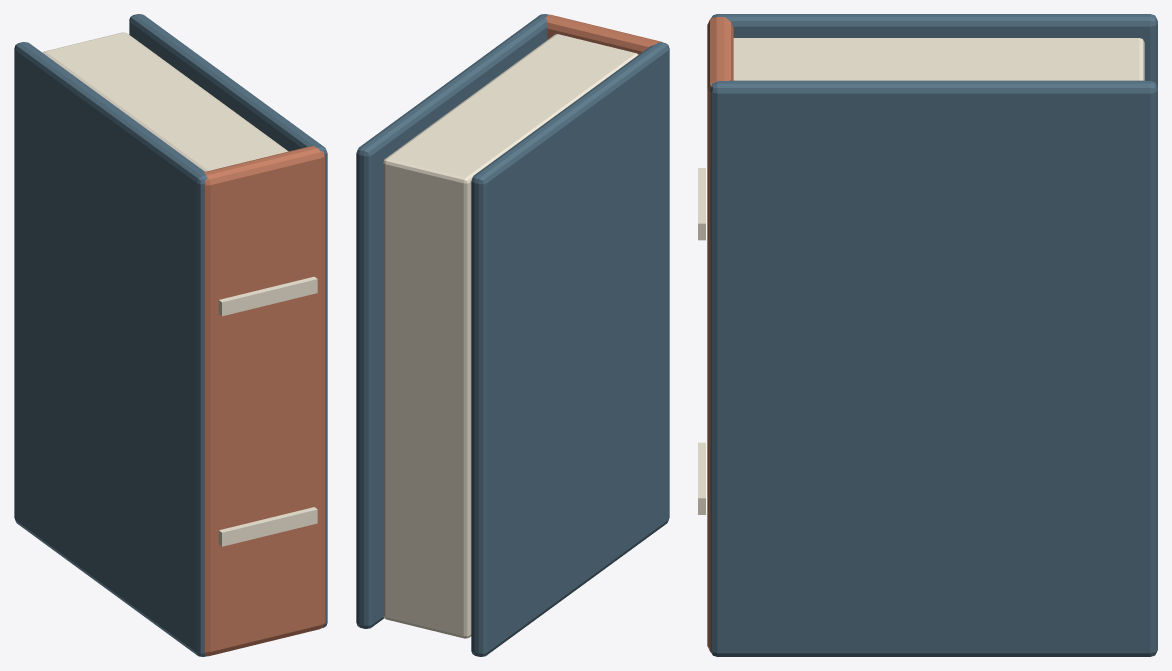
Rendered from book.glb.
3 views of the same model, side by side, from view 1: azimuth 30°, elevation 25°; view 2: azimuth 150°, elevation 25°; view 3: azimuth 270°, elevation 25° (orthographic). The views are drawn at different scales.
Visible parts, largest first — view 1: book_Mesh; view 2: book_Mesh; view 3: book_Mesh.
Part boxes in pixels (x1,y1,x2,y2): book_Mesh: [14, 14, 327, 656]; book_Mesh: [356, 14, 669, 656]; book_Mesh: [698, 14, 1157, 656].
Bounding box in the file's own units: 0.068 × 0.24 × 0.1745.
